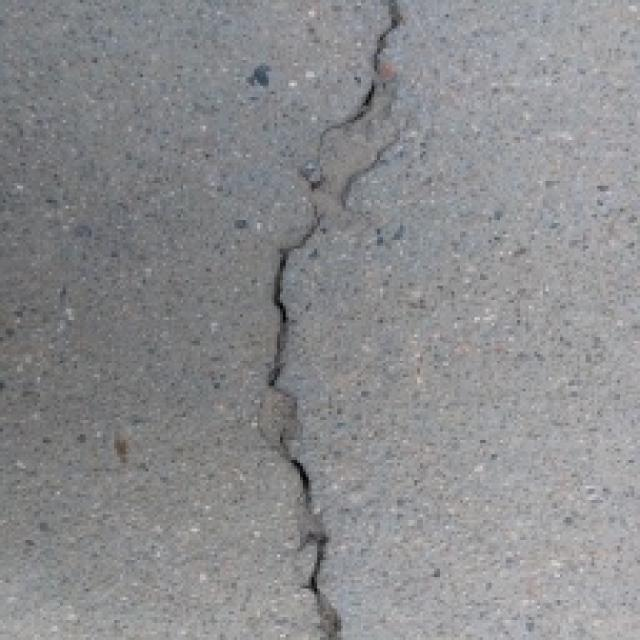SurfaceCrack: (230, 6, 434, 640)
